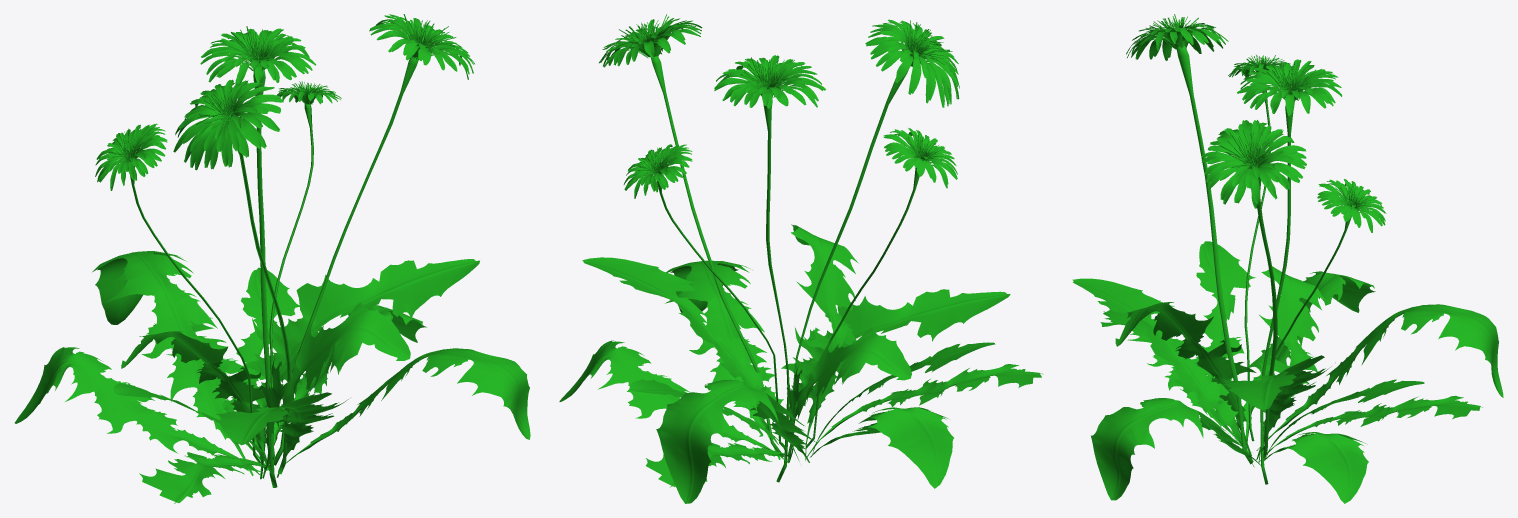
File: plant.obj
3 renders of one model, left to right at view 1: azimuth 30°, elevation 25°; view 2: azimuth 150°, elevation 25°; view 3: azimuth 270°, elevation 25°, orthographic. The views are drawn at different scales.
Parts seen in each view (by area): view 1: iFlowers_01_21; view 2: iFlowers_01_21; view 3: iFlowers_01_21.
Part boxes in pixels (left/top/right/bottom): iFlowers_01_21: left=14, top=14, right=530, bottom=503; iFlowers_01_21: left=559, top=14, right=1043, bottom=503; iFlowers_01_21: left=1072, top=14, right=1503, bottom=503.
Bounding box in the file's own units: 234 × 245 × 224.
